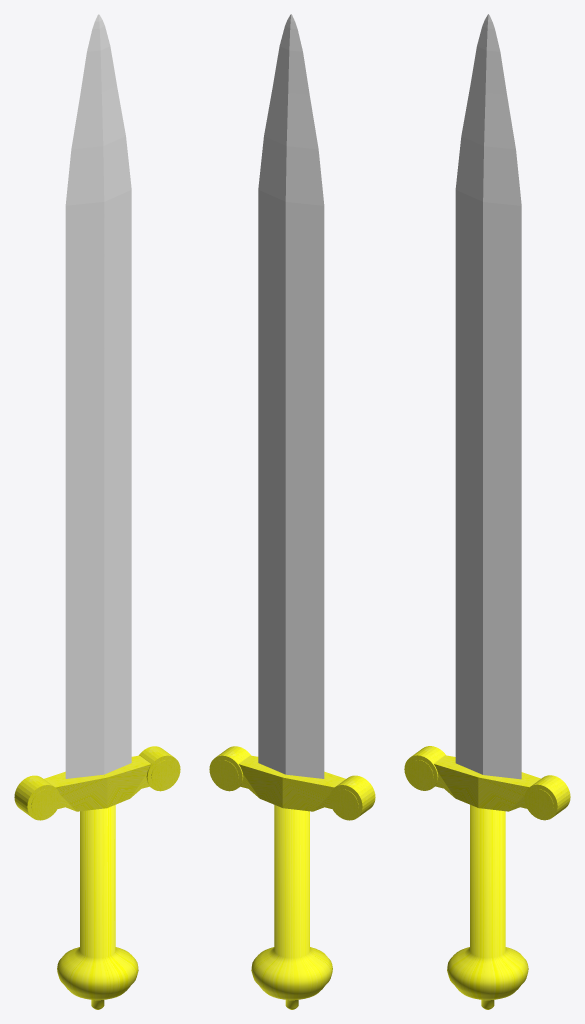
Rendered from sword-lowpoly.glb.
3 renders of one model, left to right at view 1: azimuth 30°, elevation 25°; view 2: azimuth 150°, elevation 25°; view 3: azimuth 330°, elevation 25°, orthographic.
Visible parts, largest first — view 1: Cube.002; view 2: Cube.002; view 3: Cube.002.
Boxes of the visible parts, left/top/right/bottom form: Cube.002: left=14, top=14, right=180, bottom=1009; Cube.002: left=209, top=14, right=375, bottom=1009; Cube.002: left=404, top=14, right=570, bottom=1009.
Size of the model in its own units: 0.7754 by 4.82 by 0.3582.
Materials: 5 (5 with a texture image).
